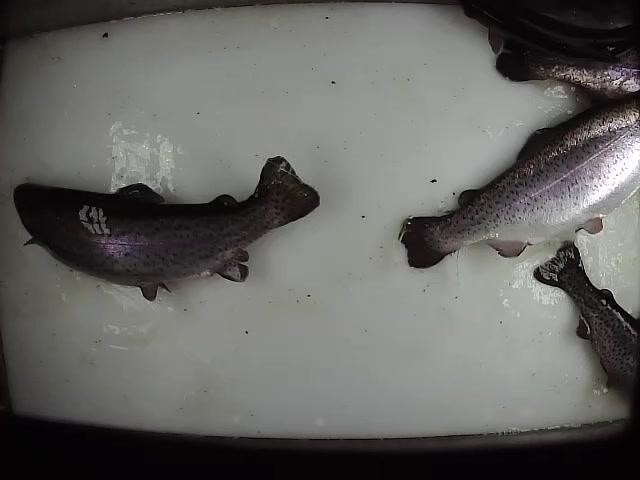fish: (12, 153, 322, 308), (397, 92, 640, 273), (533, 240, 640, 421), (456, 2, 640, 60), (495, 39, 640, 102)
